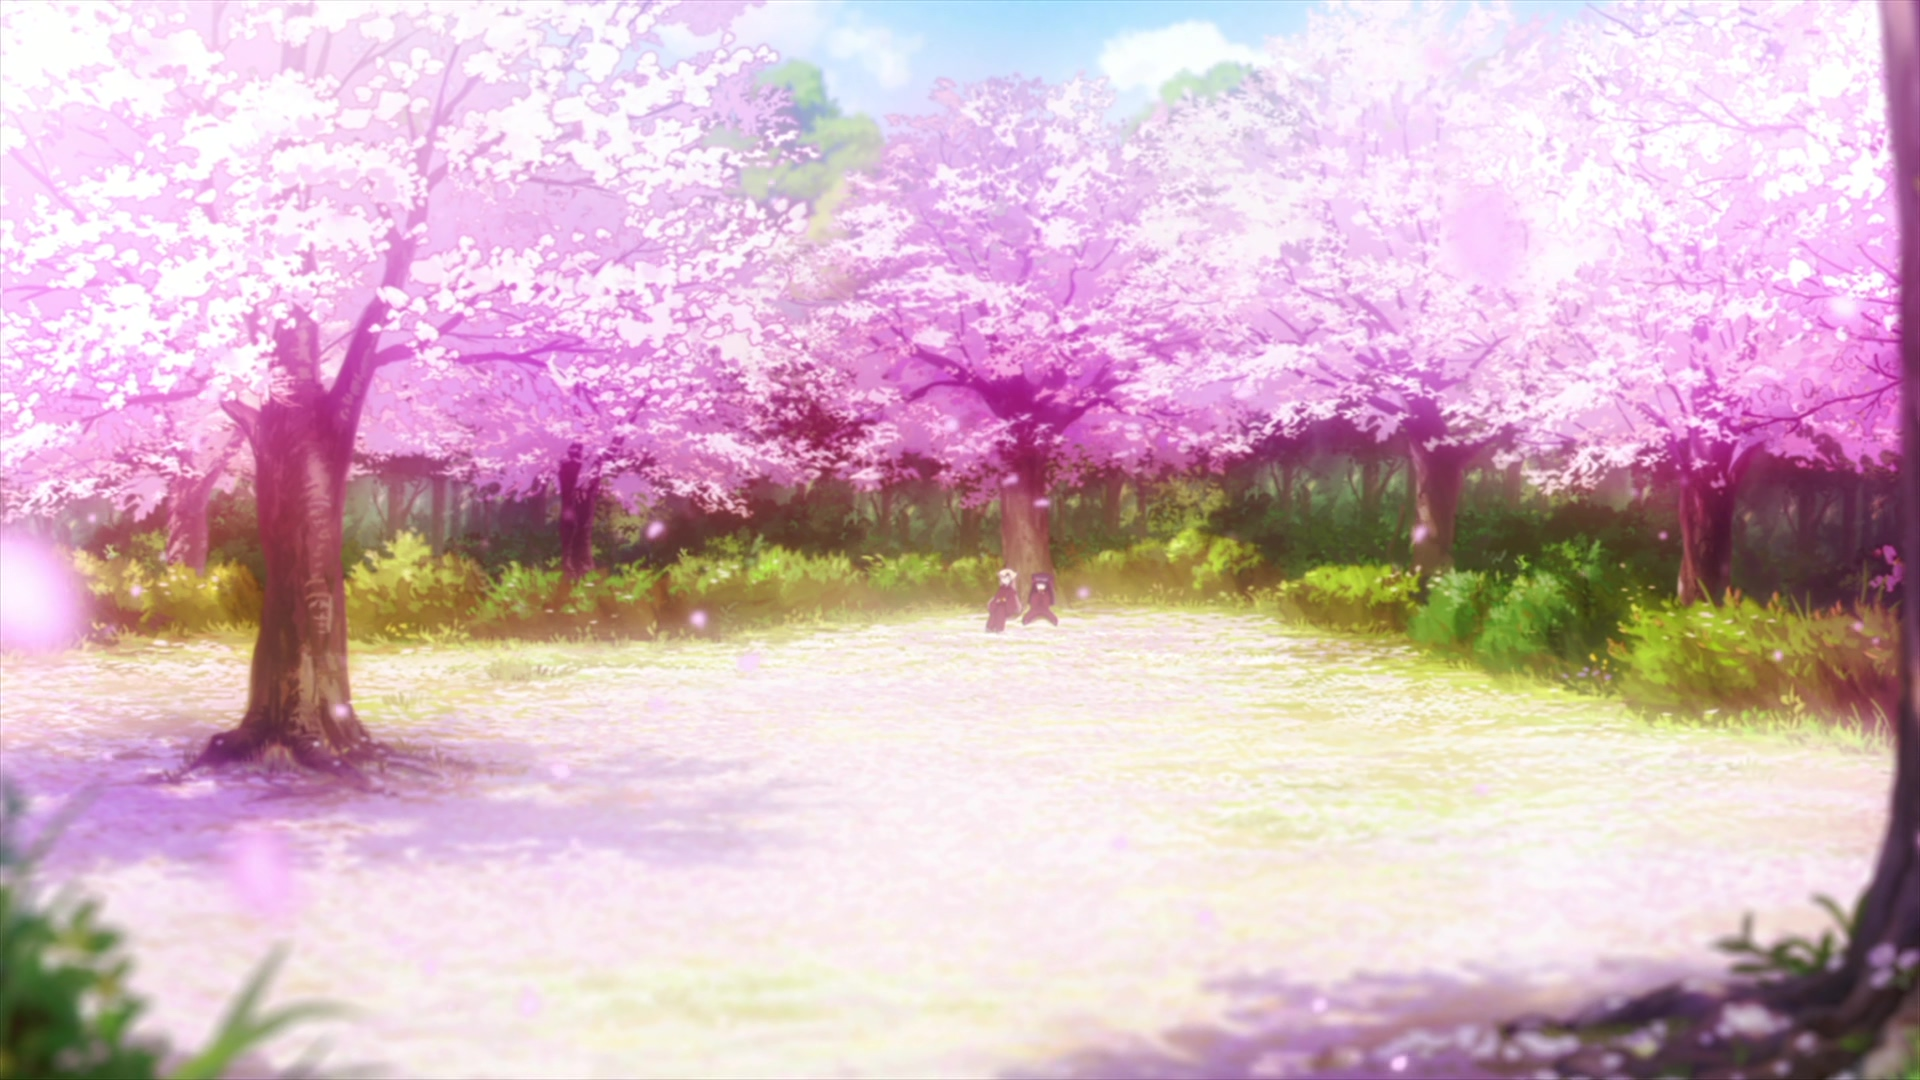柚: (988, 564, 1021, 634)
樱: (1021, 575, 1056, 622)
